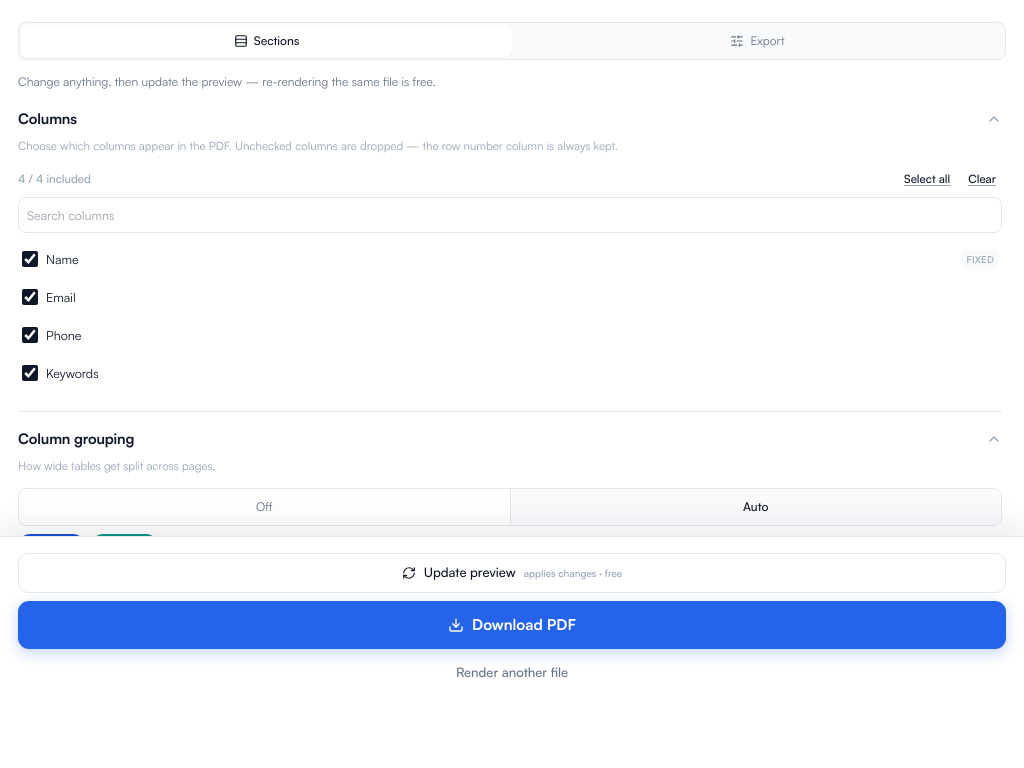
Test case: Columns picker › search filters the visible columns
The image size is (1024, 768).
Type "mail" into the search field labelled "Search columns". click: x=510, y=215
box: x1=18 y1=197 x2=1002 y2=233
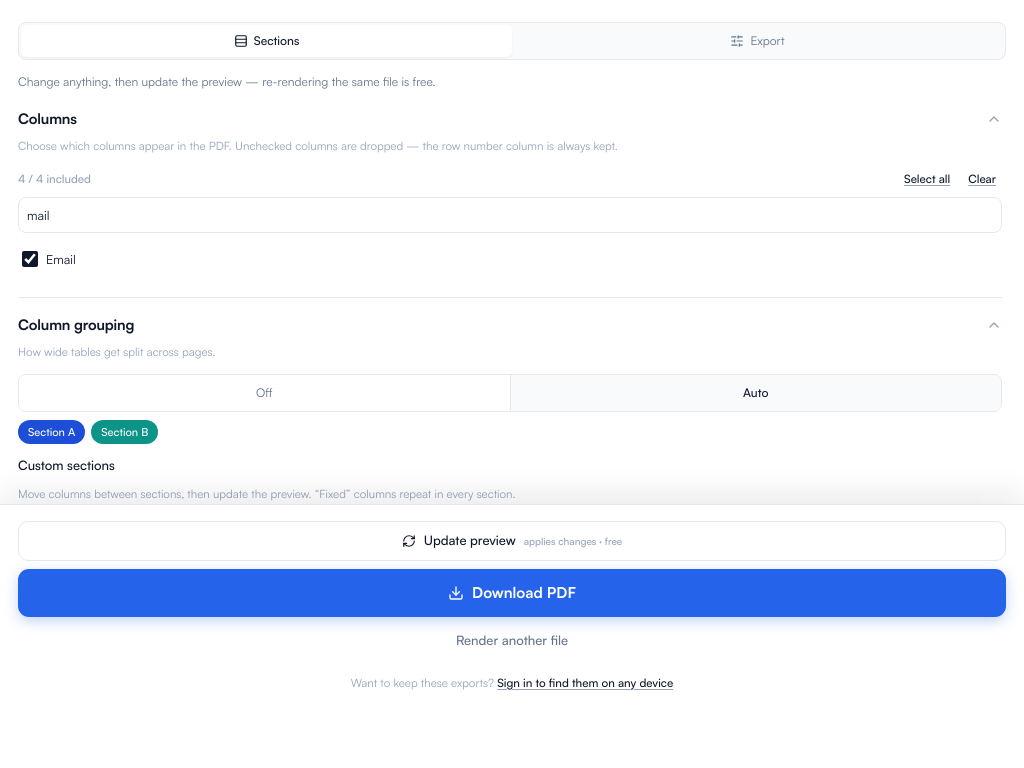
Expected: the number of checkboxes is 1, x1=22 y1=251 x2=38 y2=267
